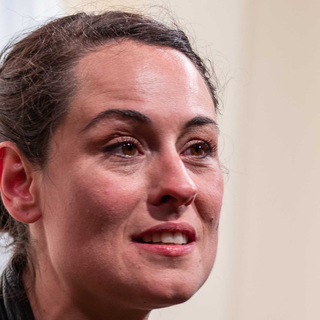eye: (96, 135, 148, 162), (179, 136, 219, 163)
